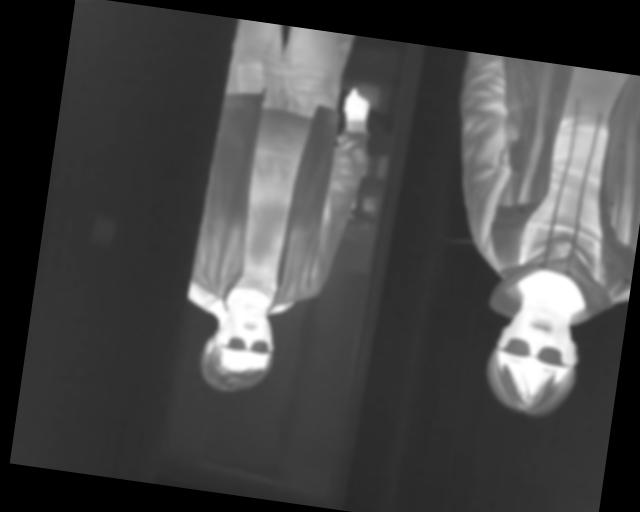face: (482, 297, 586, 422), (203, 301, 280, 394)
